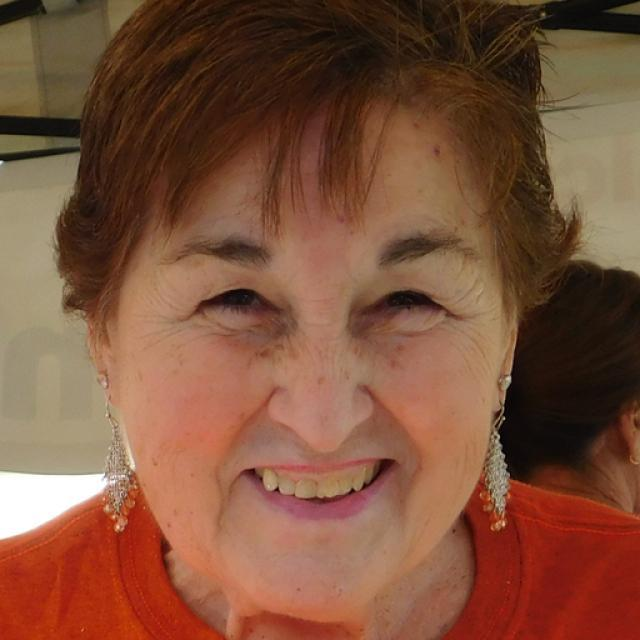happy: (115, 67, 505, 625)
